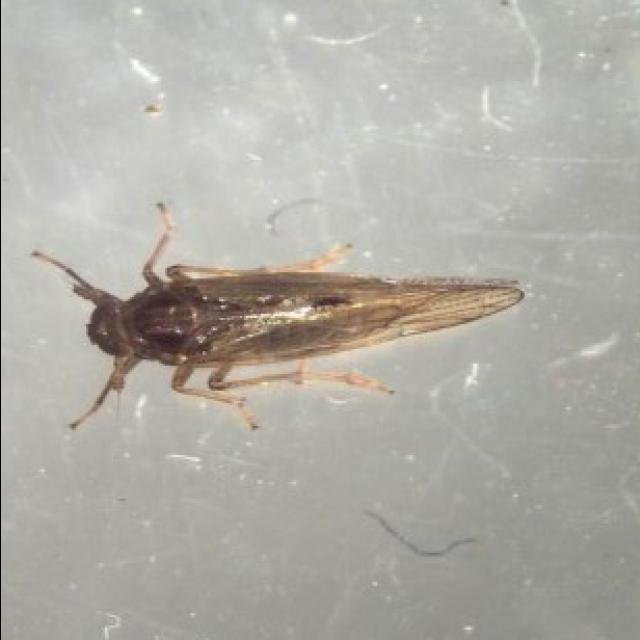brown plant hopper: (31, 204, 522, 428)
